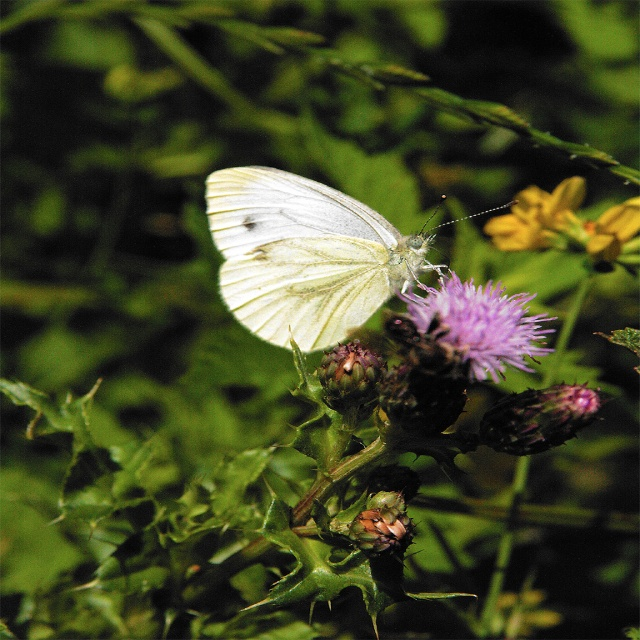Butterfly: (203, 165, 520, 354)
